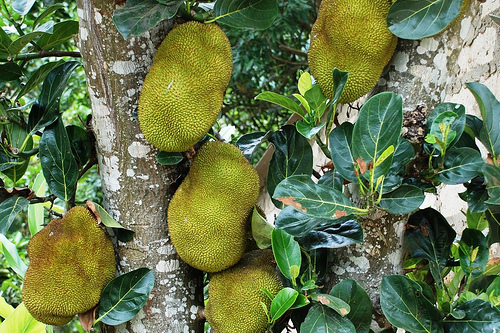jackfruit: (137, 21, 232, 155), (165, 138, 260, 271), (23, 205, 117, 326), (307, 0, 396, 105), (202, 242, 284, 332)
